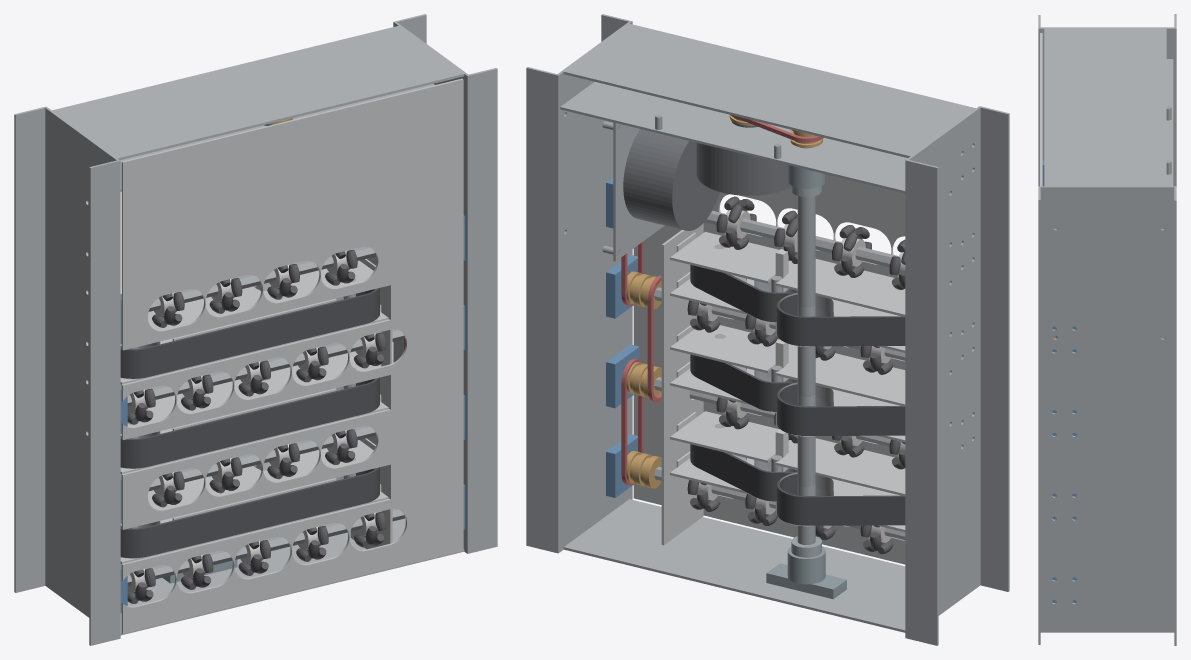
Rendered from conjunto.glb.
3 views of the same model, side by side, from view 1: azimuth 30°, elevation 25°; view 2: azimuth 150°, elevation 25°; view 3: azimuth 270°, elevation 25° (orthographic). The views are drawn at different scales.
Visible parts, largest first — view 1: tapa_superior, canal_A, placa_extremo_B, canal_B, correa_1, correa_2, correa_3, placa_extremo_A, casete2_placa_d, casete3_placa_d, casete1_placa_d, pantalla_tren (+26 smaller); view 2: canal_A, canal_B, placa_extremo_B, placa_extremo_A, tapa_superior, mampara_motores, pantalla_tren, motor_A, correa_3, correa_1, correa_2, casete3_placa_d (+30 smaller); view 3: canal_B, placa_extremo_B, canal_A, mampara_motores, tapa_superior.
Boxes of the visible parts, x1,y1,x2,y2 form: tapa_superior: (121,78,463,633); canal_A: (14,106,120,645); placa_extremo_B: (52,26,464,160); canal_B: (393,14,497,553); correa_1: (120,467,379,558); correa_2: (120,377,379,468); correa_3: (120,288,379,378); placa_extremo_A: (120,518,464,635); casete2_placa_d: (120,351,381,438); casete3_placa_d: (120,260,373,348); casete1_placa_d: (120,440,373,527); pantalla_tren: (350,256,392,549); canal_A: (905,106,1009,645); canal_B: (526,14,632,553); placa_extremo_B: (563,23,975,157); placa_extremo_A: (563,499,905,632); tapa_superior: (633,174,905,564); mampara_motores: (560,82,907,193); pantalla_tren: (661,223,703,545); motor_A: (602,121,719,255); correa_3: (690,265,905,346); correa_1: (690,444,905,525); correa_2: (690,354,905,435); casete3_placa_d: (670,231,905,316); canal_B: (1038,186,1176,645); placa_extremo_B: (1044,28,1166,186); canal_A: (1038,14,1176,338); mampara_motores: (1166,59,1173,186); tapa_superior: (1040,33,1042,186).
Size of the model in its own units: 527 by 586 by 165.
